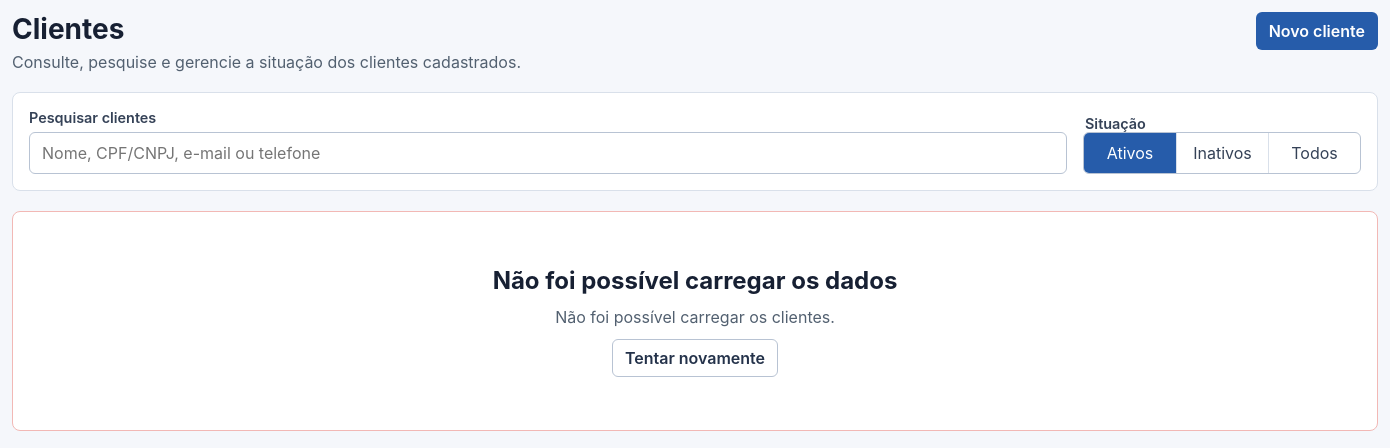
Test case: CustomerListPage › allows retrying after error
Step 1. Click the button "Tentar novamente" → click(695, 358), box [612,338,778,376]
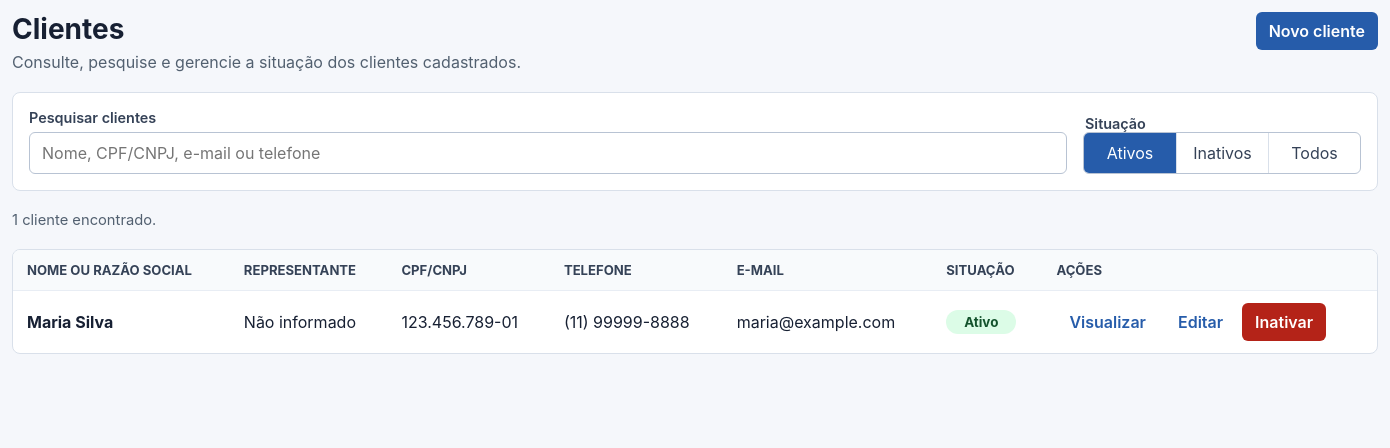
Expected: the text "Maria Silva" is shown, [27,312,113,332]
